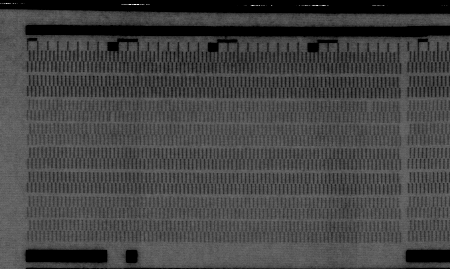Broken hole: (364, 100, 376, 113)
Oblique printing: (106, 111, 117, 123)
